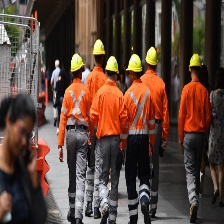helmet: (69, 52, 85, 75), (188, 53, 204, 75), (105, 55, 120, 78), (126, 54, 143, 74), (145, 46, 159, 70), (92, 41, 108, 58)
person: (93, 56, 126, 224), (59, 52, 91, 224), (178, 52, 210, 224), (122, 53, 152, 220)
vest: (123, 75, 153, 140), (180, 80, 210, 140), (96, 82, 122, 142), (144, 71, 169, 133), (63, 80, 90, 134)
